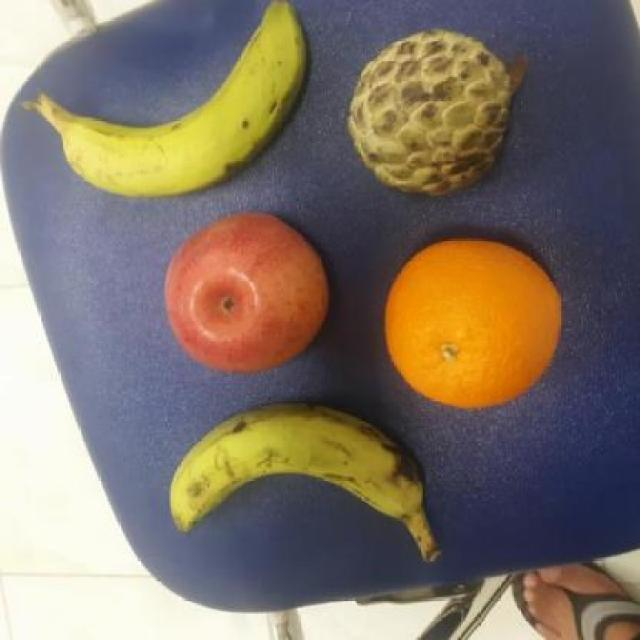apple: (161, 210, 332, 375)
banana: (49, 0, 314, 202), (166, 400, 432, 543)
oren: (382, 236, 563, 409)
sugar apple: (345, 26, 510, 200)
